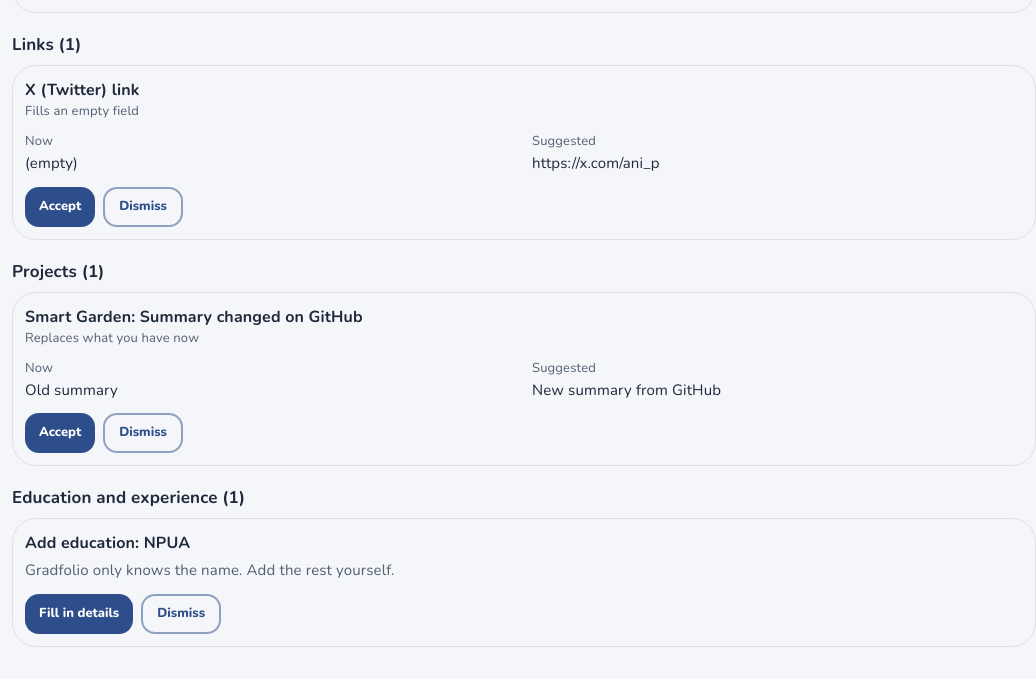
Test: the inbox › the API's 400 on the form keeps the form open with the message
(page scrolled)
Click the button with aria-label "Fill in details:". click: (79, 614)
box: [25,594,133,634]
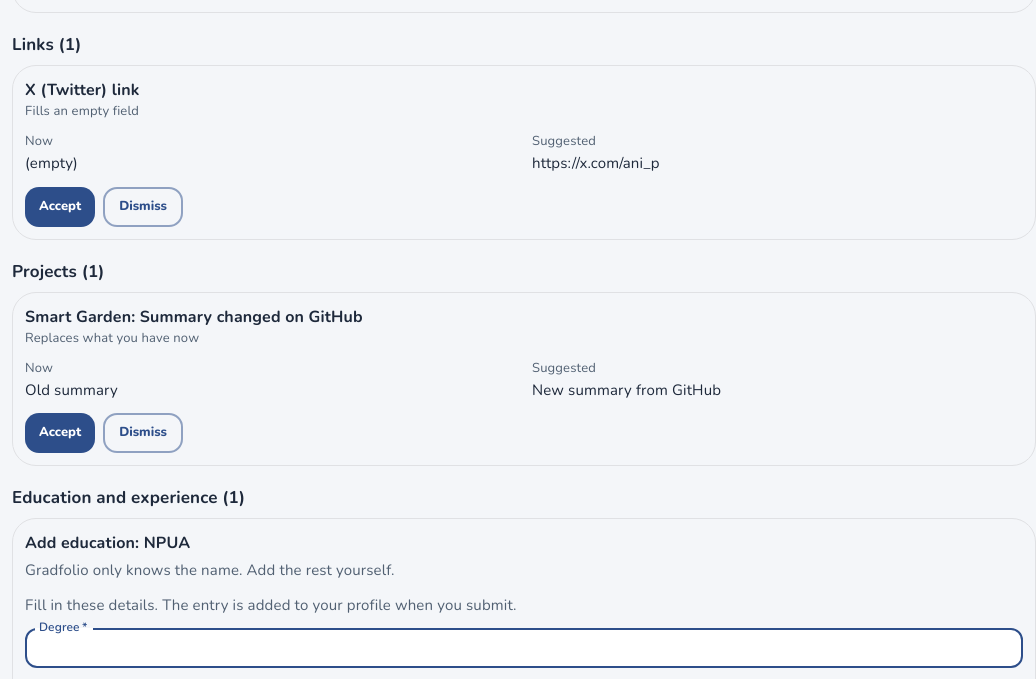
Type "BSc" into the field labelled "Degree *". click: (524, 648)
box: [25,628,1023,668]
(page scrolled)
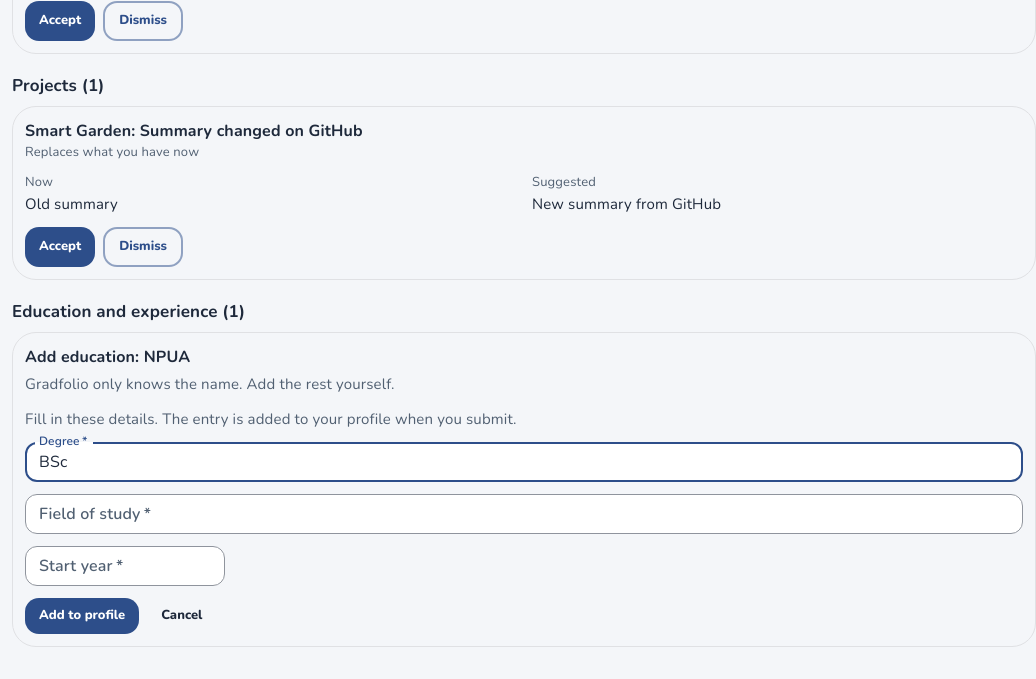
Type "CS" into the field labelled "Field of study *". click: (524, 514)
box: [25,494,1023,534]
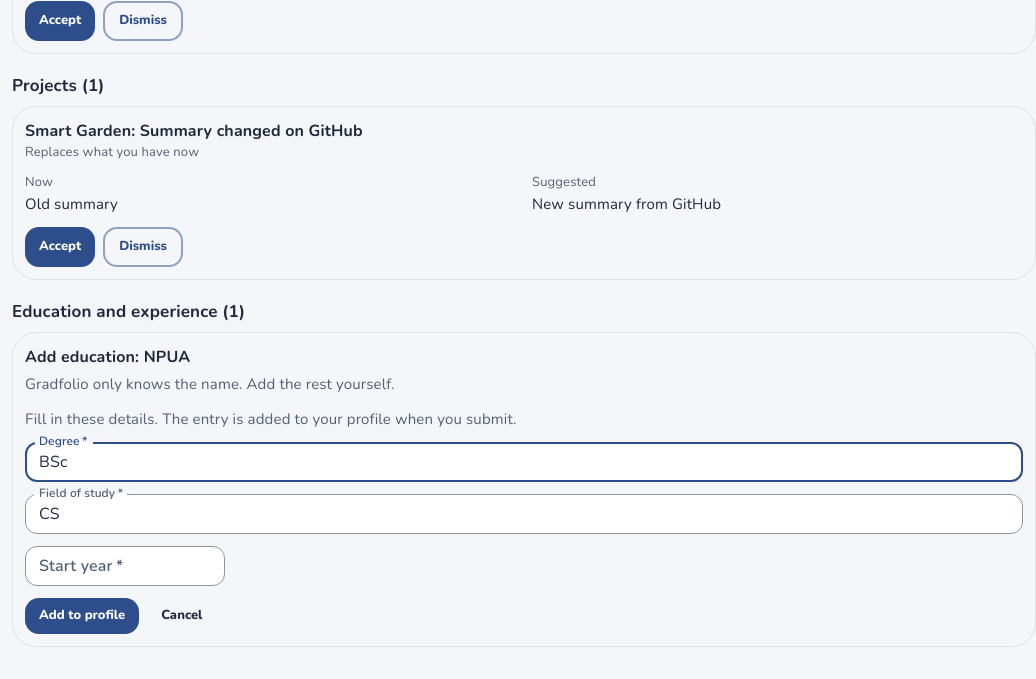
Type "2022" into the number field labelled "Start year *". click: (125, 566)
box: [25,546,225,586]
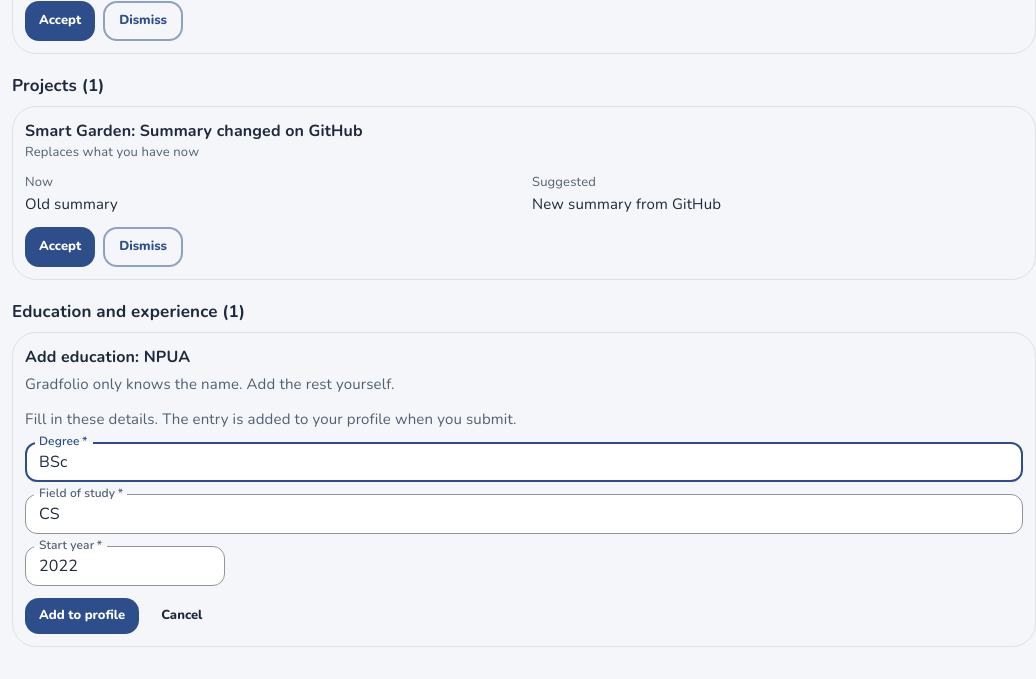
Click the button "Add to profile". click: (82, 616)
box: [25,598,139,634]
(page scrolled)
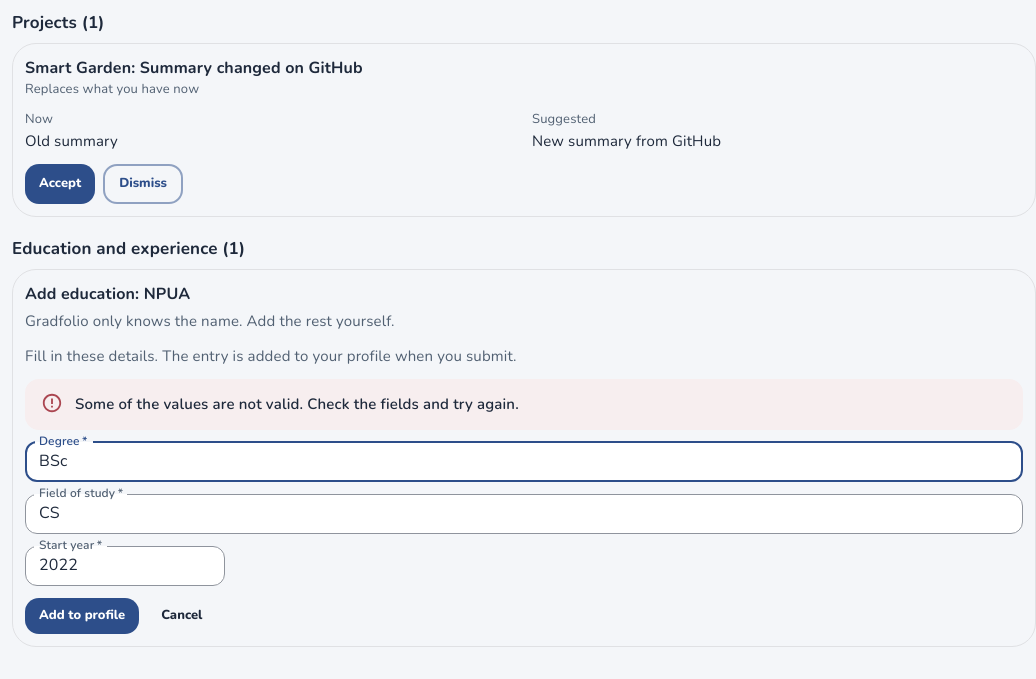
Expected: the form named "Education details" is shown, [25,345,1023,634]
Expected: the message shows "Some of the values are not valid", [75,394,519,414]
